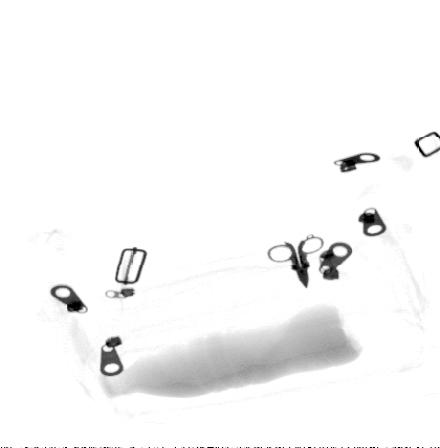Scissors: (268, 232, 323, 290)
